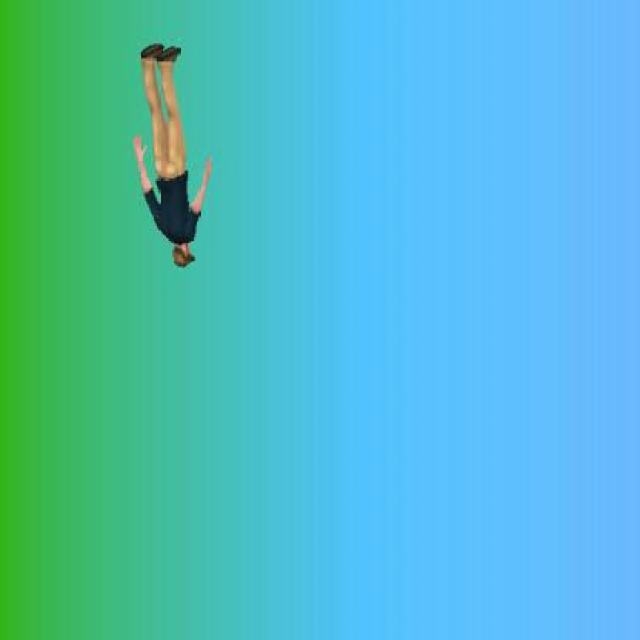Person: (130, 37, 216, 268)
